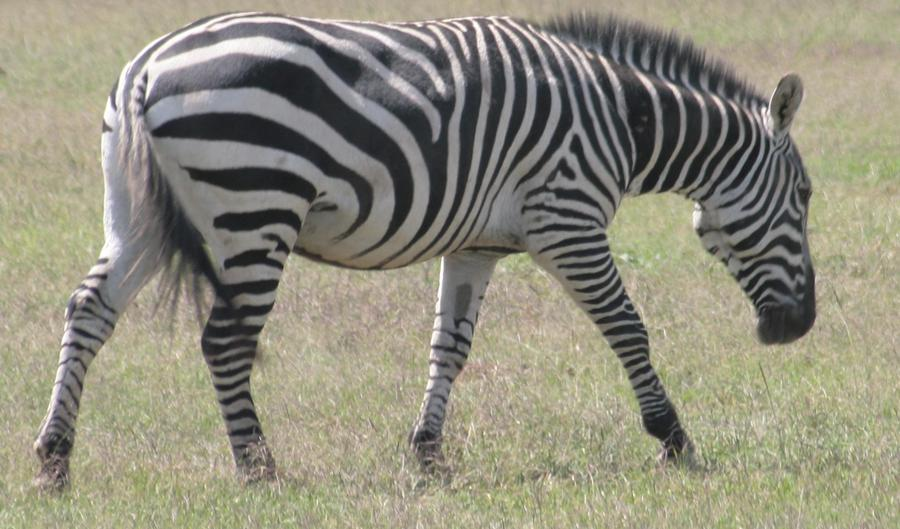zebra_plains: (177, 1, 622, 289)
